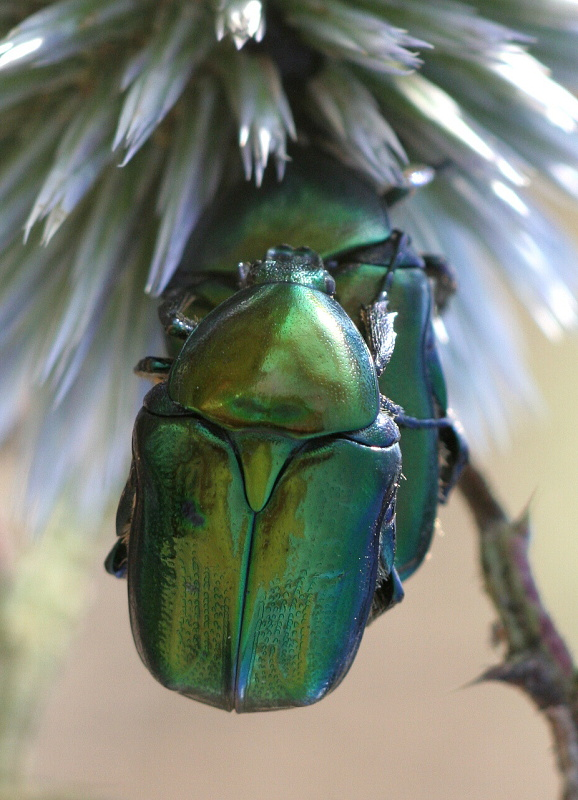Protaetia_angustata_angustata: (85, 239, 445, 740)
